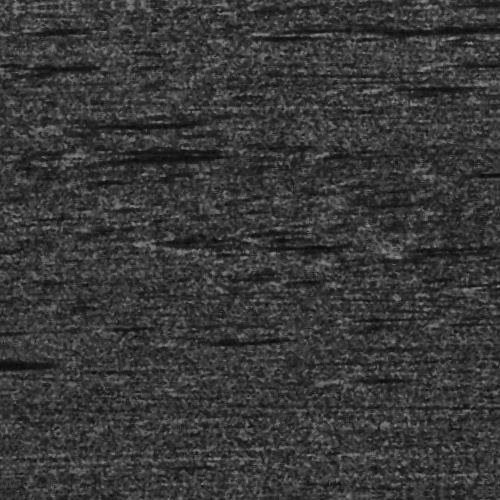object: (196, 243, 269, 248), (11, 56, 74, 61), (331, 32, 372, 37), (76, 145, 117, 148), (65, 118, 96, 121)
shadow: (352, 32, 500, 37), (233, 243, 334, 248), (87, 152, 225, 155), (96, 145, 213, 148), (80, 118, 194, 121), (43, 56, 109, 61)
